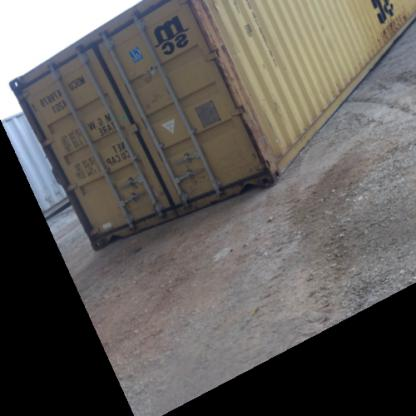Damage: (247, 116, 279, 178), (214, 50, 249, 90), (373, 8, 402, 44), (119, 172, 150, 204), (186, 161, 208, 193), (144, 88, 166, 110), (240, 14, 262, 34), (142, 58, 160, 76)
